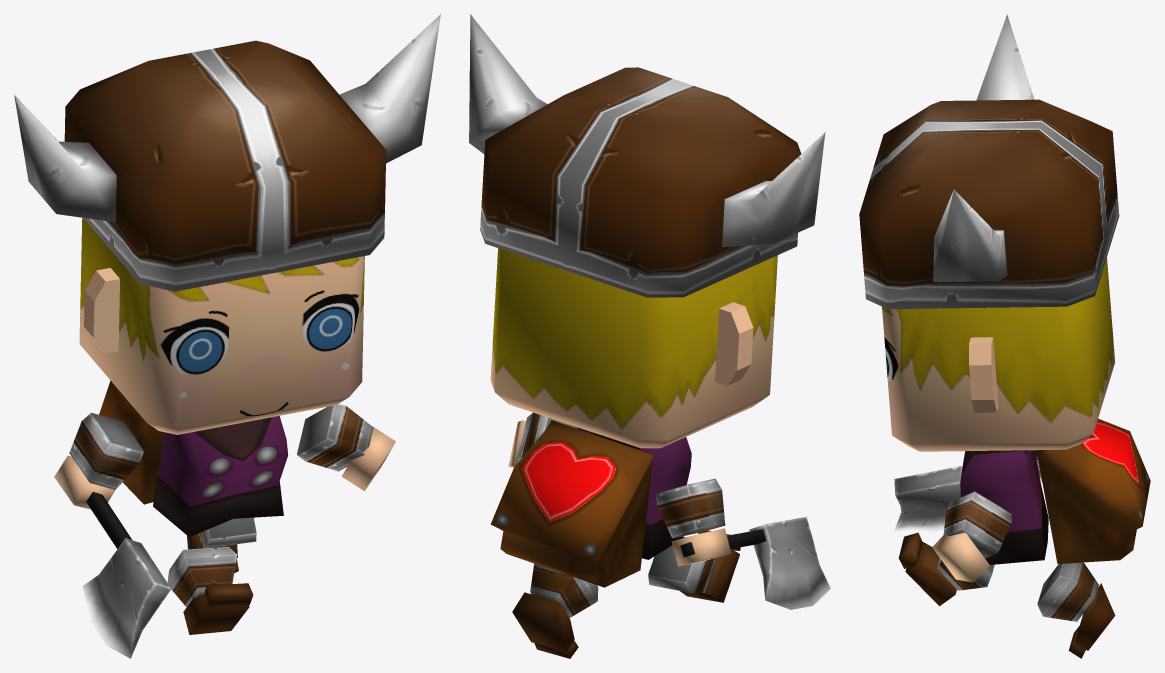
File: mini_knight_fem_000015.obj
3 views of the same model, side by side, from view 1: azimuth 30°, elevation 25°; view 2: azimuth 150°, elevation 25°; view 3: azimuth 270°, elevation 25° (orthographic). The views are drawn at different scales.
Visible parts, largest first — view 1: cap_Object01, Mesh_objheadusOBJexport, axe_Object02, back_Object03; view 2: cap_Object01, Mesh_objheadusOBJexport, back_Object03, axe_Object02; view 3: cap_Object01, Mesh_objheadusOBJexport, back_Object03, axe_Object02.
Boxes of the visible parts, x1,y1,x2,y2 form: cap_Object01: [14, 14, 440, 291]; Mesh_objheadusOBJexport: [54, 217, 395, 634]; axe_Object02: [82, 492, 171, 658]; back_Object03: [99, 380, 163, 504]; cap_Object01: [469, 14, 825, 297]; Mesh_objheadusOBJexport: [490, 248, 777, 658]; back_Object03: [490, 420, 653, 587]; axe_Object02: [680, 517, 830, 609]; cap_Object01: [859, 14, 1119, 309]; Mesh_objheadusOBJexport: [882, 257, 1115, 658]; back_Object03: [1038, 418, 1150, 563]; axe_Object02: [894, 466, 962, 531].
Bounding box in the file's own units: 1.83 × 2.53 × 1.26.
